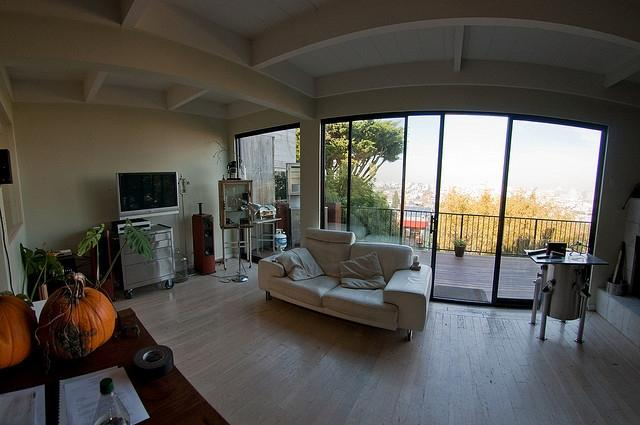pumpkin: (35, 272, 115, 372), (0, 295, 38, 369)
